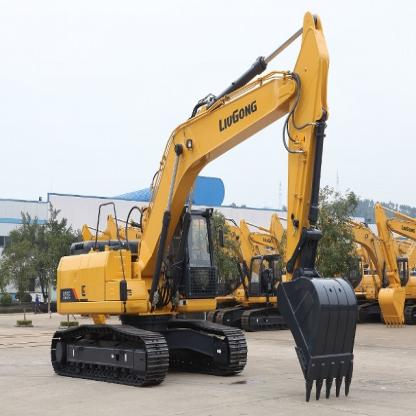excavator: (55, 12, 367, 405)
